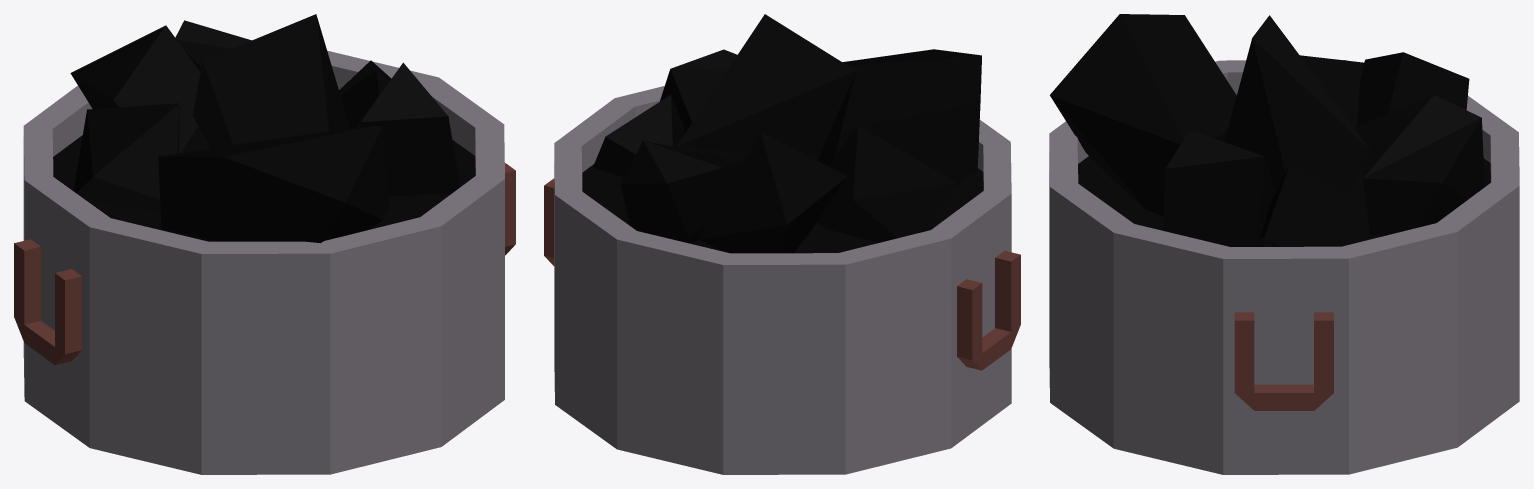
File: coal_bascket_LOW.fbx
3 renders of one model, left to right at view 1: azimuth 30°, elevation 25°; view 2: azimuth 150°, elevation 25°; view 3: azimuth 270°, elevation 25°, orthographic. The views are drawn at different scales.
Visible parts, largest first — view 1: coal_ore.002; view 2: coal_ore.002; view 3: coal_ore.002.
Boxes of the visible parts, x1,y1,x2,y2 form: coal_ore.002: (14, 14, 515, 474); coal_ore.002: (544, 14, 1020, 474); coal_ore.002: (1049, 14, 1519, 474).
Bounding box in the file's own units: 255 × 196 × 236.
